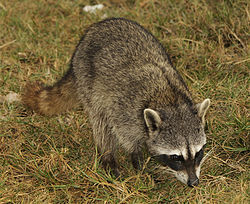raccoon: (26, 17, 225, 194)
